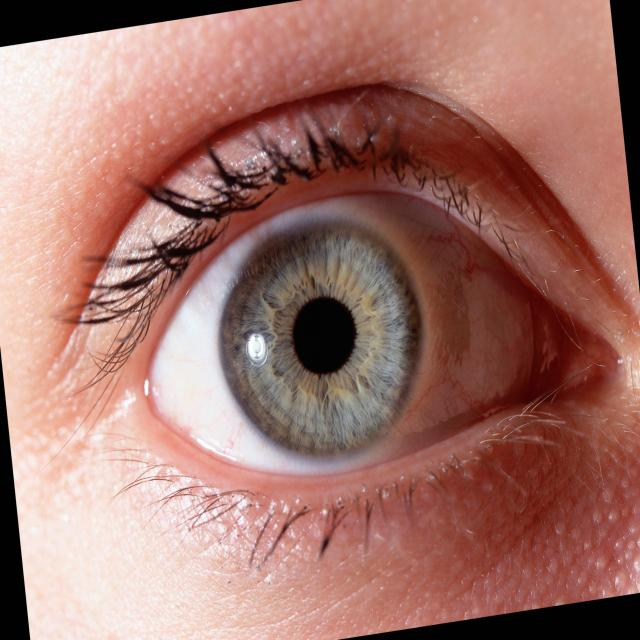Healthy-Eye: (67, 104, 604, 535)
